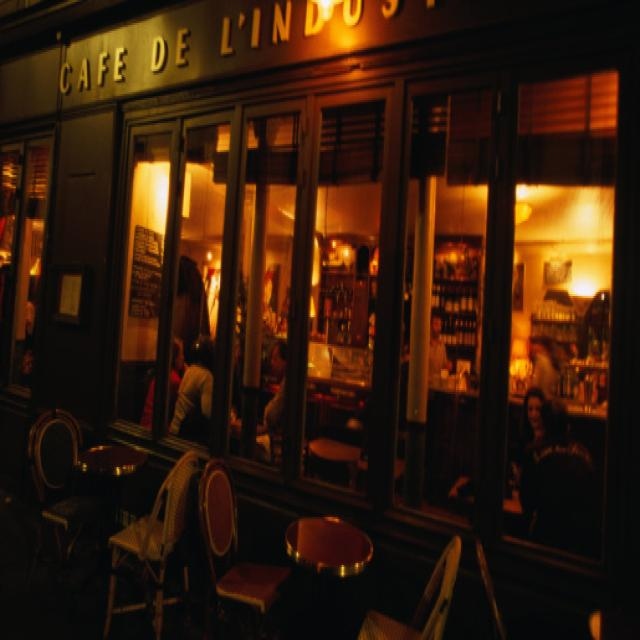People: (516, 363, 589, 527), (171, 311, 220, 424), (256, 320, 301, 437)
Table: (282, 464, 389, 630), (79, 408, 144, 514)
chair: (192, 430, 279, 627), (19, 372, 94, 584), (364, 513, 476, 640), (138, 420, 184, 606)
